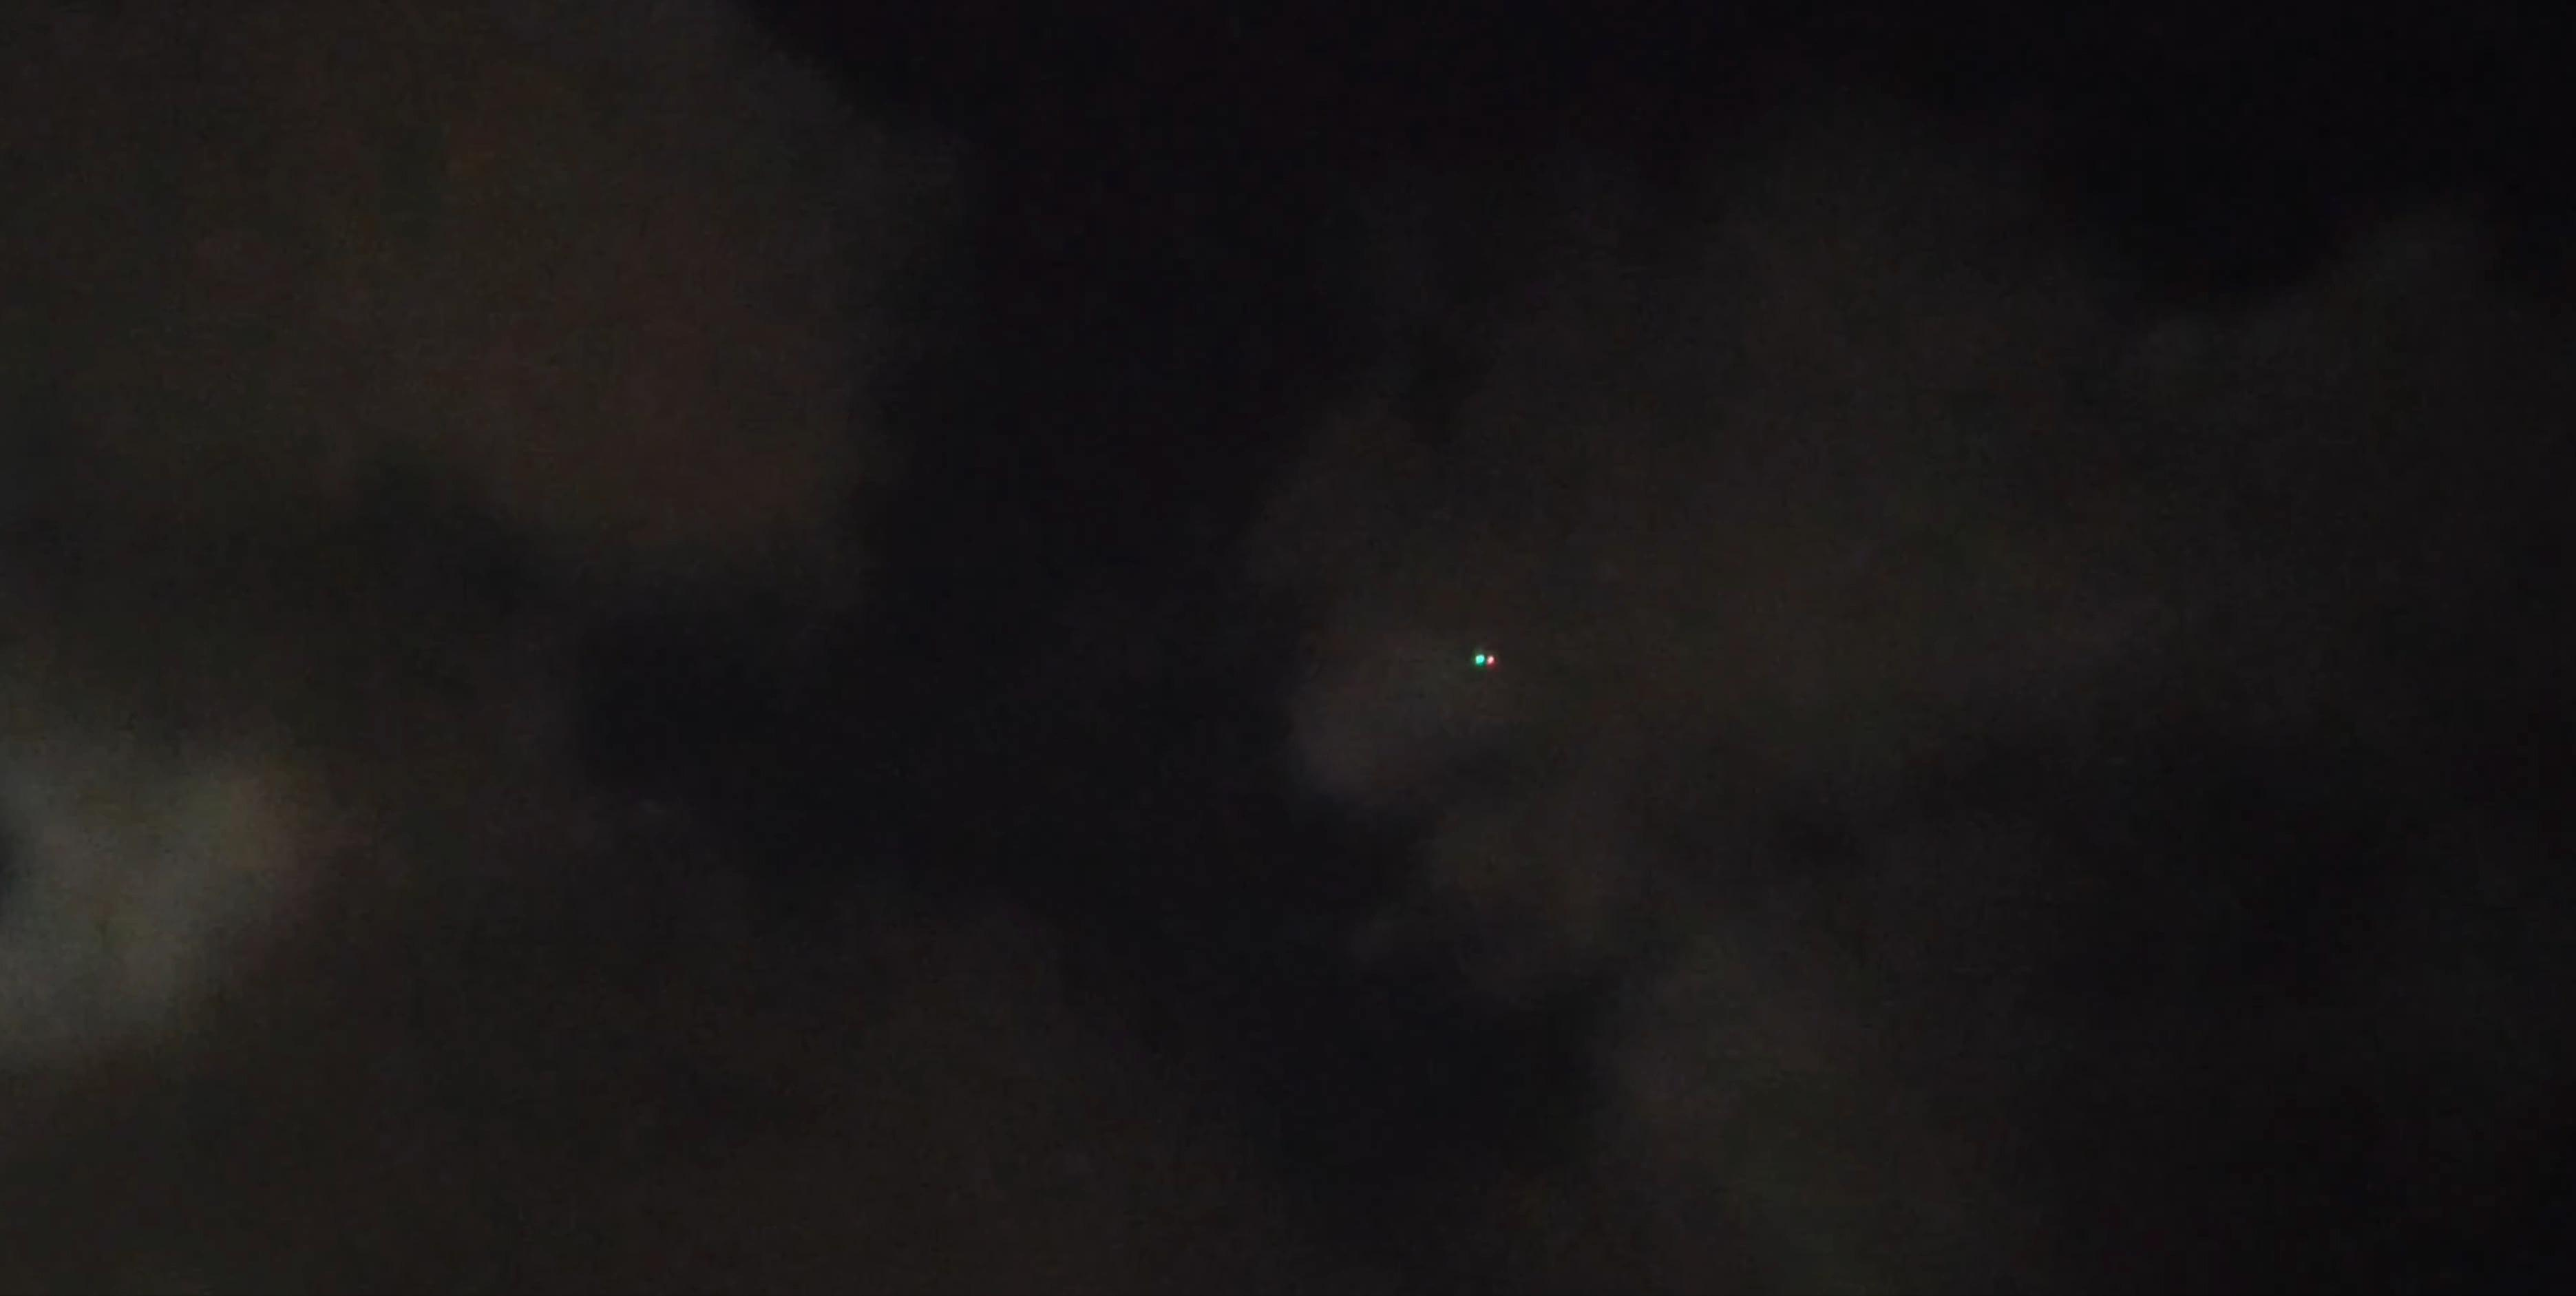Plane: (1471, 641, 1502, 681)
